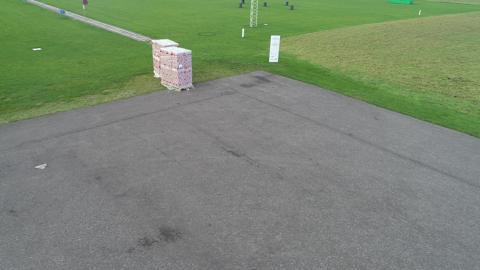RockwoolPallet: (152, 40, 179, 69)
